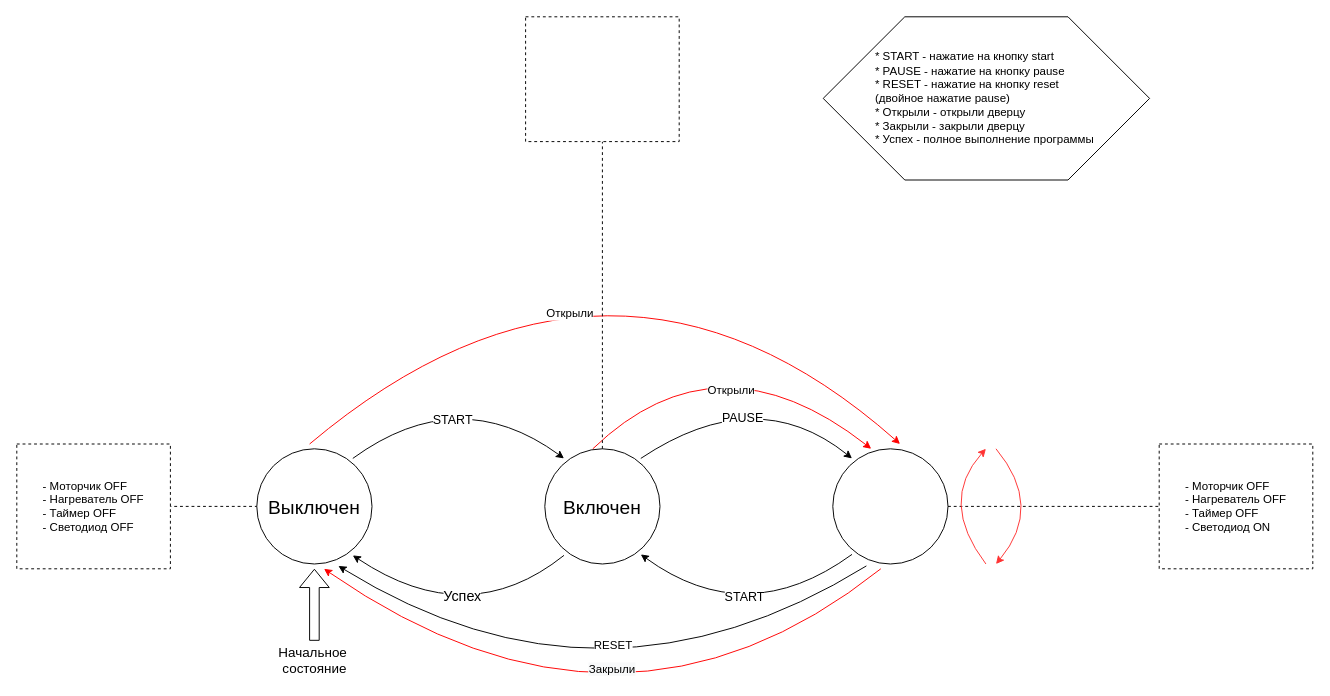
This 1330x696 diagram has some shape labels left out. Each missing label, with the centre of its shape:
"- Моторчик ON - Нагреватель ON - Таймер ON - Светодиод ON" goes at [602,79].
"Пауза" goes at [890,506].
